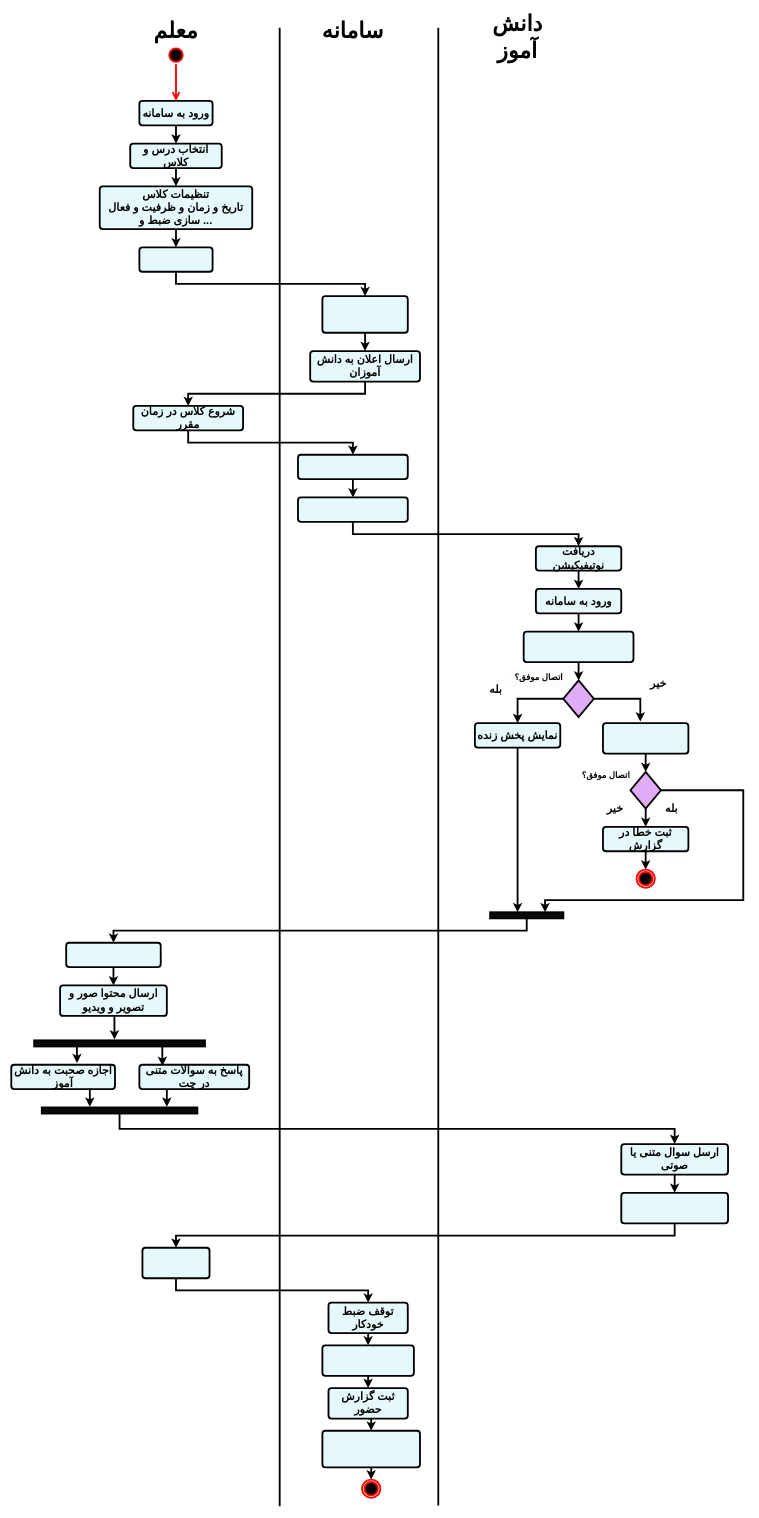
Image size: 759x1518. Some labels were removed from this diagram. Each missing label, with the centre of its shape:
ارسال لینک باز پخش به دانشجویان: the point at 371,1449
اشتراک صفحه و اسلاید: the point at 113,955
انتخاب درس و کلیک روی لینک کلاس: the point at 578,646
ایجاد جلسه: the point at 175,259
ایجاد لینک شرکت در کلاس: the point at 352,509
تلاش مجدد (حداکثر 3 بار): the point at 645,738
دریافت پاسخ از معلم: the point at 674,1208
ذخیره اطلاعات کلاس در پایگاه داده: the point at 364,314
ذخیره فایل ضبط شده روی سرور ابری: the point at 367,1360
فعال کردن سرور کلاس: the point at 352,467
پایان کلاس: the point at 175,1263
